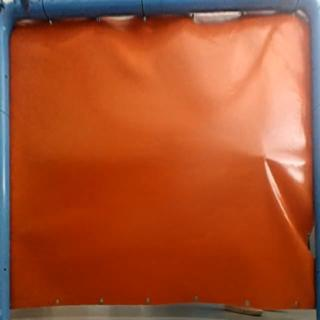Hit-hRxx: (259, 148, 271, 166)
